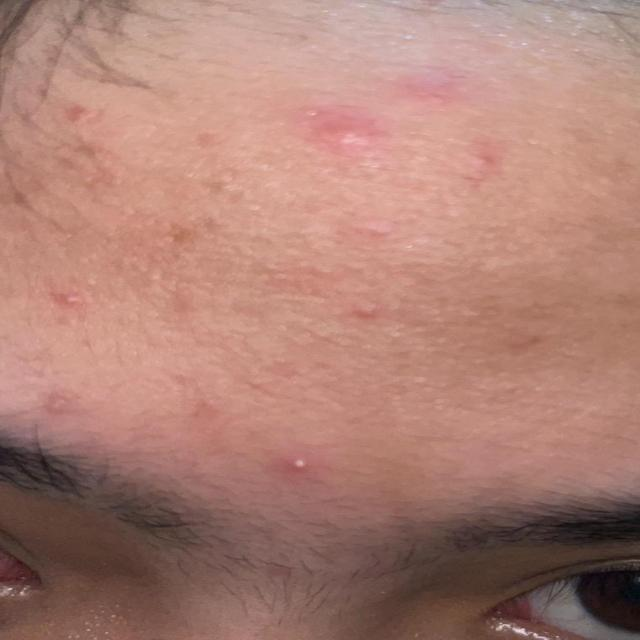papule: (265, 48, 493, 168)
pustule: (269, 439, 323, 486), (50, 281, 98, 314)
